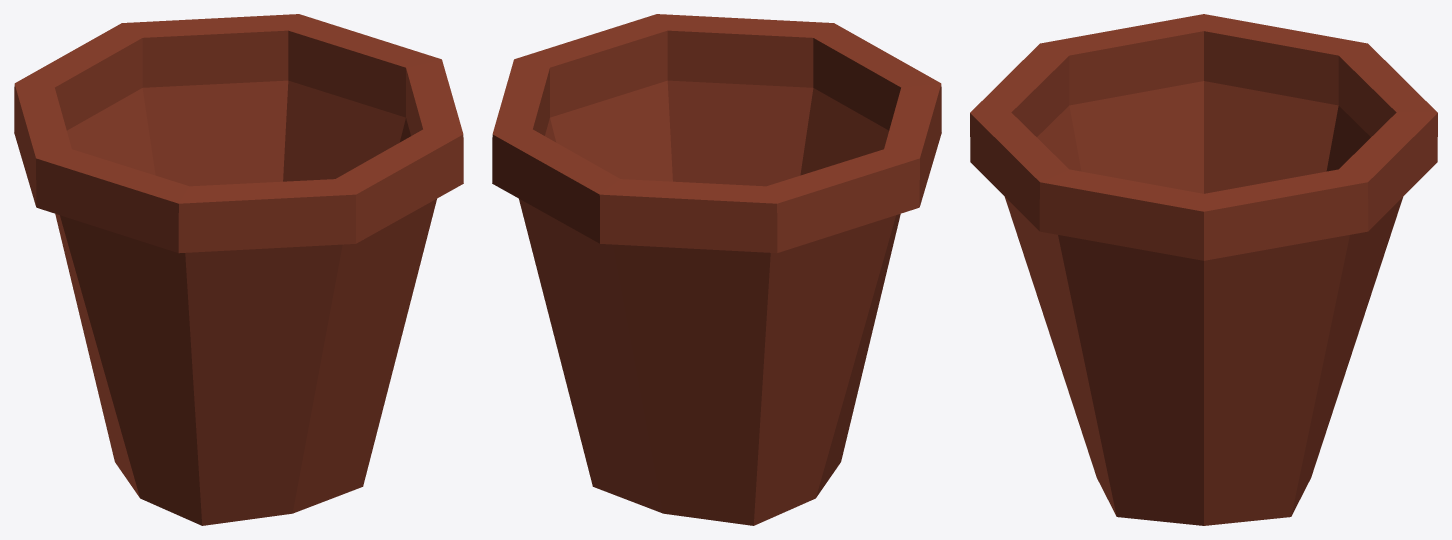
File: pot.fbx
3 views of the same model, side by side, from view 1: azimuth 30°, elevation 25°; view 2: azimuth 150°, elevation 25°; view 3: azimuth 270°, elevation 25° (orthographic).
Visible parts, largest first — view 1: Cube; view 2: Cube; view 3: Cube.
Boxes of the visible parts, x1=… form: Cube: x1=14, y1=14, x2=463, y2=525; Cube: x1=492, y1=14, x2=941, y2=525; Cube: x1=970, y1=14, x2=1437, y2=525.
Size of the model in its own units: 949 by 829 by 949.
